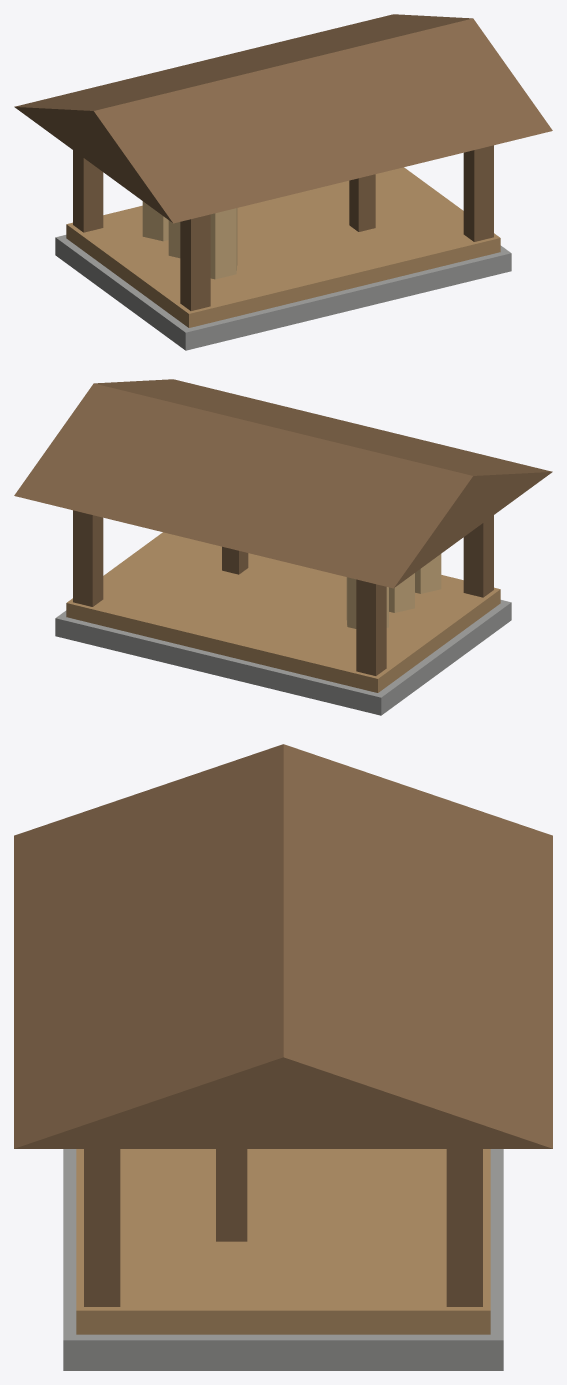
Rendered from LumberMill.fbx.
The picture shows the model from 3 angles, top to bottom: view 1: azimuth 30°, elevation 25°; view 2: azimuth 150°, elevation 25°; view 3: azimuth 270°, elevation 25°; orthographic projection. The views are drawn at different scales.
Parts seen in each view (by area): view 1: LumberMill_Roof, LumberMill_Deck, LumberMill_Base, LumberMill_Post, LumberMill_Post.002, LumberMill_Post.001, LumberMill_Log, LumberMill_SawPost, LumberMill_Log.002, LumberMill_Log.001; view 2: LumberMill_Roof, LumberMill_Deck, LumberMill_Base, LumberMill_Post.001, LumberMill_Post.003, LumberMill_Post, LumberMill_Log, LumberMill_Log.001, LumberMill_Log.002, LumberMill_SawPost; view 3: LumberMill_Roof, LumberMill_Deck, LumberMill_Base, LumberMill_Post.002, LumberMill_Post.003, LumberMill_SawPost.
Boxes of the visible parts, x1,y1,x2,y2 form: LumberMill_Roof: [14, 14, 552, 223]; LumberMill_Deck: [66, 167, 500, 327]; LumberMill_Base: [55, 235, 511, 350]; LumberMill_Post: [180, 214, 210, 310]; LumberMill_Post.002: [463, 145, 493, 241]; LumberMill_Post.001: [73, 150, 103, 232]; LumberMill_Log: [210, 208, 237, 279]; LumberMill_SawPost: [349, 174, 375, 231]; LumberMill_Log.002: [142, 201, 168, 241]; LumberMill_Log.001: [168, 220, 180, 258]; LumberMill_Roof: [14, 379, 552, 588]; LumberMill_Deck: [66, 532, 500, 692]; LumberMill_Base: [55, 600, 511, 715]; LumberMill_Post.001: [356, 579, 386, 675]; LumberMill_Post.003: [73, 510, 103, 606]; LumberMill_Post: [463, 515, 493, 597]; LumberMill_Log: [415, 554, 441, 593]; LumberMill_Log.001: [389, 573, 414, 612]; LumberMill_Log.002: [346, 577, 388, 628]; LumberMill_SawPost: [222, 546, 248, 574]; LumberMill_Roof: [14, 744, 552, 1148]; LumberMill_Deck: [76, 1149, 490, 1334]; LumberMill_Base: [63, 1149, 503, 1370]; LumberMill_Post.002: [84, 1149, 120, 1306]; LumberMill_Post.003: [446, 1149, 482, 1306]; LumberMill_SawPost: [216, 1149, 247, 1241].
Size of the model in its own units: 220 by 110 by 160.
